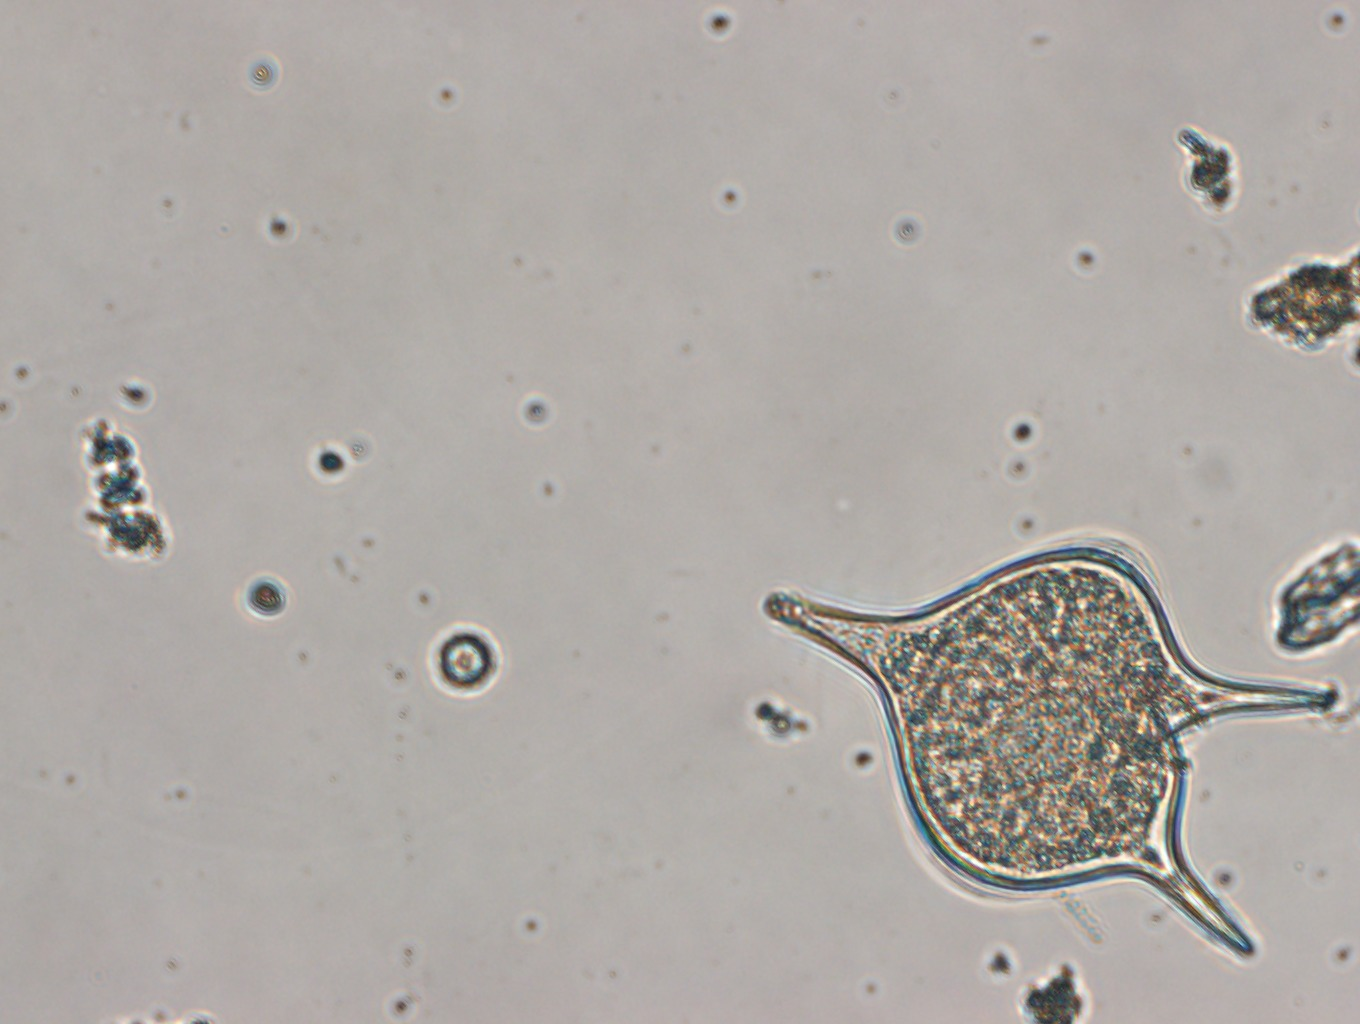protoperidinium: (762, 543, 1340, 955)
